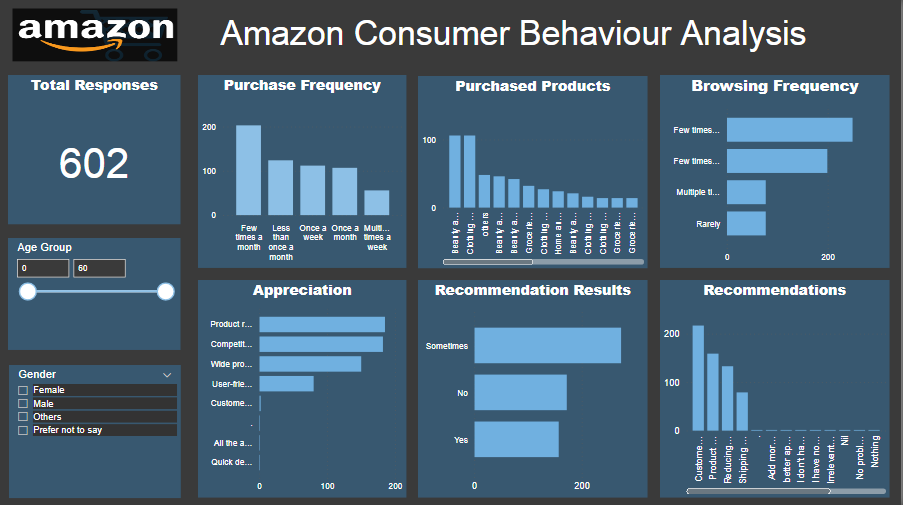

This screenshot's page, from the dashboard's own definition file:
{"tool":"powerbi","page":{"name":"Page 1","canvas":[1280,720],"ordinal":0},"visuals":[{"type":"card","title":"Total Responses","fields":{"Values":["Amazon Customer Behavior Survey_RAW _Data.Total Record"]},"box":[13,108.2,245.3,212.1],"z":0},{"type":"slicer","fields":{"Values":["Amazon Customer Behavior Survey_RAW _Data.age (bins)"]},"box":[13,339.1,245.3,158.7],"z":1000},{"type":"slicer","fields":{"Values":["Amazon Customer Behavior Survey_RAW _Data.Gender"]},"box":[14.4,519.4,243.8,189],"z":2000},{"type":"columnChart","title":"Purchase Frequency","fields":{"Category":["Amazon Customer Behavior Survey_RAW _Data.Purchase_Frequency"],"Y":["CountNonNull(Amazon Customer Behavior Survey_RAW _Data.Purchase_Frequency)"]},"box":[282.8,108.2,295.8,274.1],"z":3000},{"type":"columnChart","title":"Purchased Products","fields":{"Category":["Amazon Customer Behavior Survey_RAW _Data.Purchase_Categories"],"Y":["CountNonNull(Amazon Customer Behavior Survey_RAW _Data.Purchase_Categories)"]},"box":[594.5,109.7,326.1,272.7],"z":4000},{"type":"barChart","title":"Browsing Frequency","fields":{"Category":["Amazon Customer Behavior Survey_RAW _Data.Browsing_Frequency"],"Y":["CountNonNull(Amazon Customer Behavior Survey_RAW _Data.Browsing_Frequency)"]},"box":[939.3,108.2,326.1,274.1],"z":5000},{"type":"barChart","title":"Appreciation","fields":{"Category":["Amazon Customer Behavior Survey_RAW _Data.Service_Appreciation"],"Y":["CountNonNull(Amazon Customer Behavior Survey_RAW _Data.Service_Appreciation)"]},"box":[282.8,399.7,295.8,308.8],"z":6000},{"type":"barChart","title":"Recommendation Results","fields":{"Category":["Amazon Customer Behavior Survey_RAW _Data.Recommendation_Helpfulness"],"Y":["CountNonNull(Amazon Customer Behavior Survey_RAW _Data.Recommendation_Helpfulness)"]},"box":[594.5,399.7,326.1,308.8],"z":7000},{"type":"columnChart","title":"Recommendations","fields":{"Category":["Amazon Customer Behavior Survey_RAW _Data.Improvement_Areas"],"Y":["CountNonNull(Amazon Customer Behavior Survey_RAW _Data.Improvement_Areas)"]},"box":[939.3,399.7,326.1,308.8],"z":8000},{"type":"textbox","box":[282.6,15.6,982.7,78.1],"z":9000},{"type":"image","box":[14.2,8.5,244.3,85.2],"z":9001}]}

Visuals, with their boxes in screenshot pixels (x1, y1, x2, y2), scaled from the page's 1280x720 canvas onto the 903x505 screenshot:
"Total Responses" card: (9,76,182,225)
slicer - Amazon Customer Behavior Survey_RAW _Data.age (bins): (9,238,182,349)
slicer - Amazon Customer Behavior Survey_RAW _Data.Gender: (10,364,182,497)
"Purchase Frequency" columnChart: (200,76,408,268)
"Purchased Products" columnChart: (419,77,649,268)
"Browsing Frequency" barChart: (663,76,893,268)
"Appreciation" barChart: (200,280,408,497)
"Recommendation Results" barChart: (419,280,649,497)
"Recommendations" columnChart: (663,280,893,497)
textbox: (199,11,893,66)
image: (10,6,182,66)
